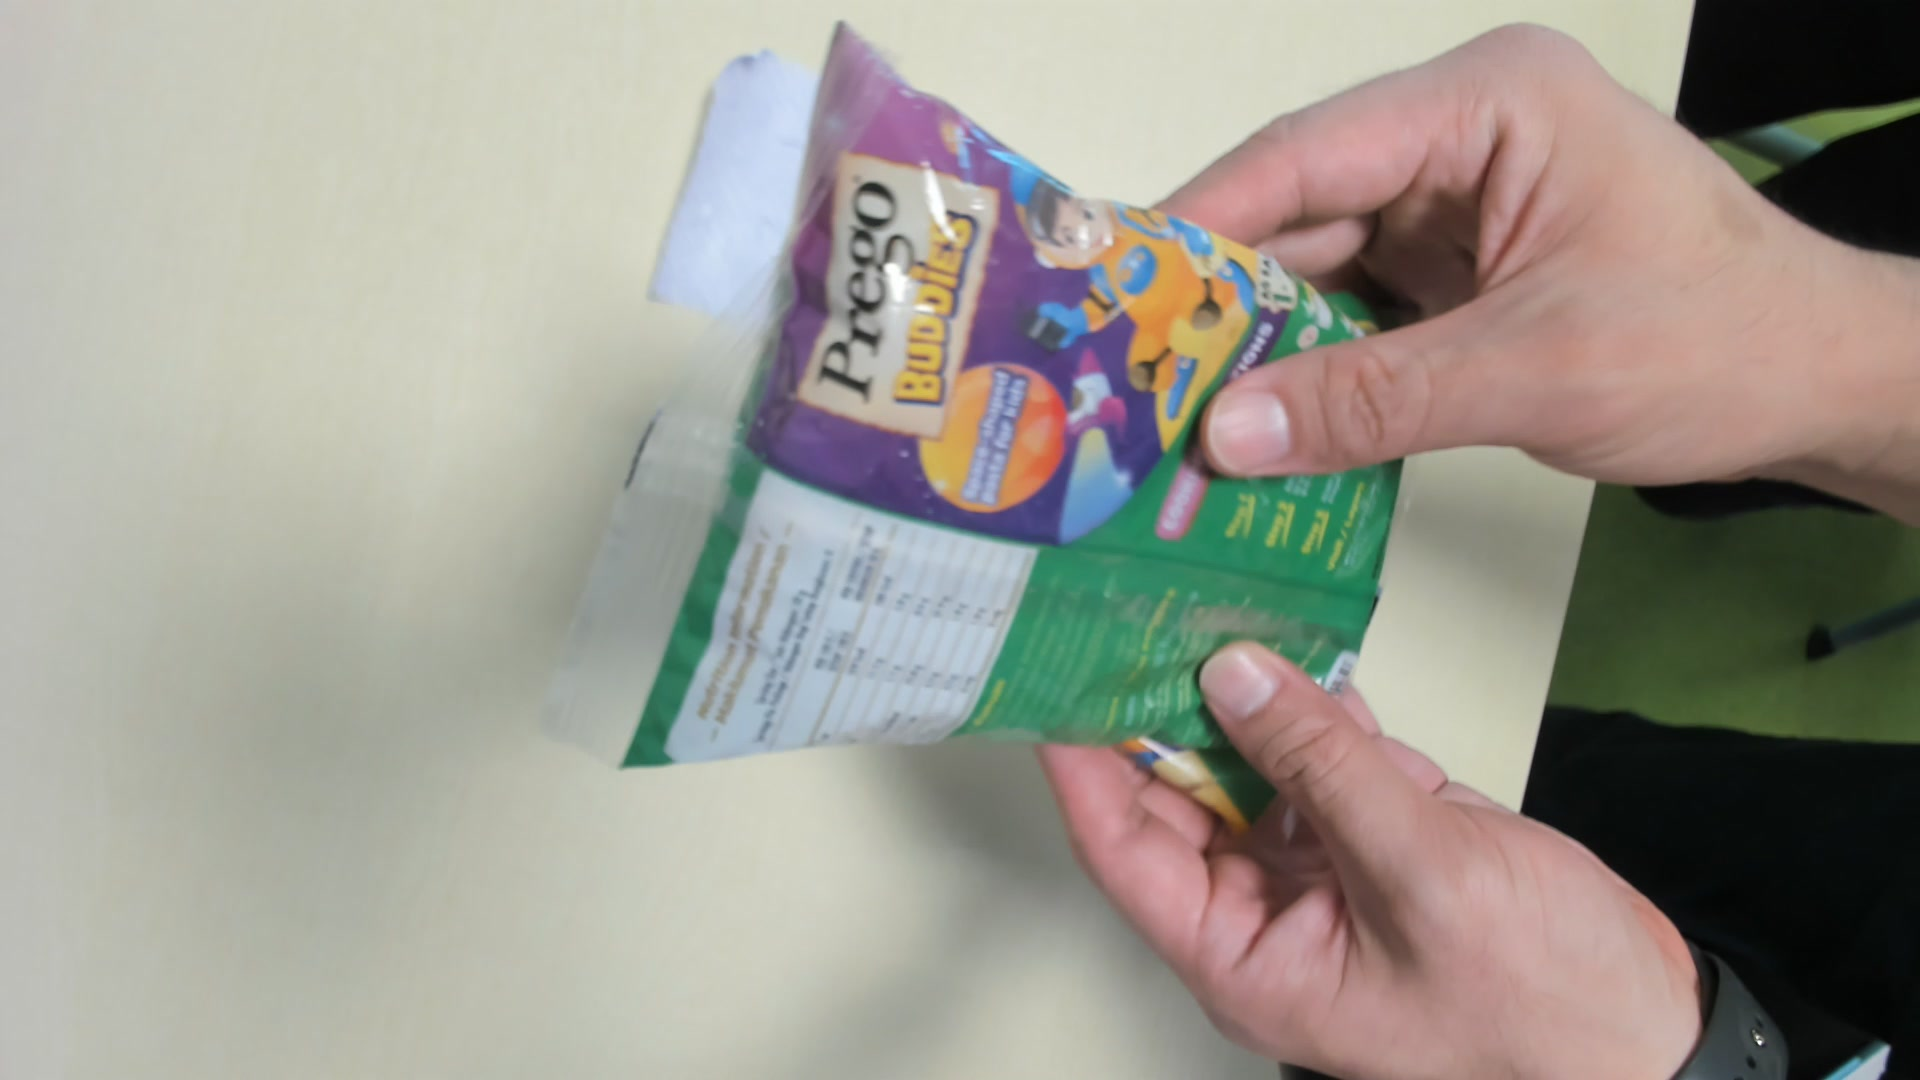Pasta_200-299g_Halal_NonHealthy: (570, 42, 1400, 815)
